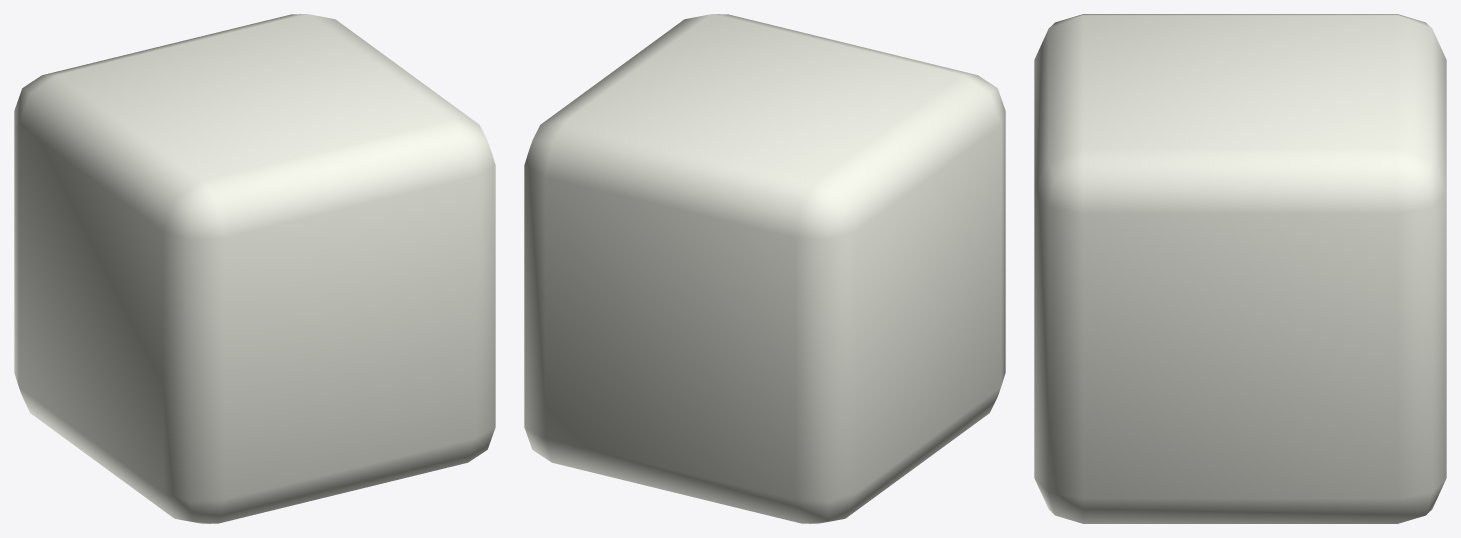
The model's file is garnish-icecube.fbx.
The picture shows the model from 3 angles, left to right: view 1: azimuth 30°, elevation 25°; view 2: azimuth 150°, elevation 25°; view 3: azimuth 270°, elevation 25°; orthographic projection. The views are drawn at different scales.
Parts seen in each view (by area): view 1: garnish_icecube; view 2: garnish_icecube; view 3: garnish_icecube.
Boxes of the visible parts, left/top/right/bottom form: garnish_icecube: left=14, top=14, right=495, bottom=523; garnish_icecube: left=524, top=14, right=1005, bottom=523; garnish_icecube: left=1034, top=14, right=1446, bottom=523.
Bounding box in the file's own units: 0.042 × 0.042 × 0.042.
